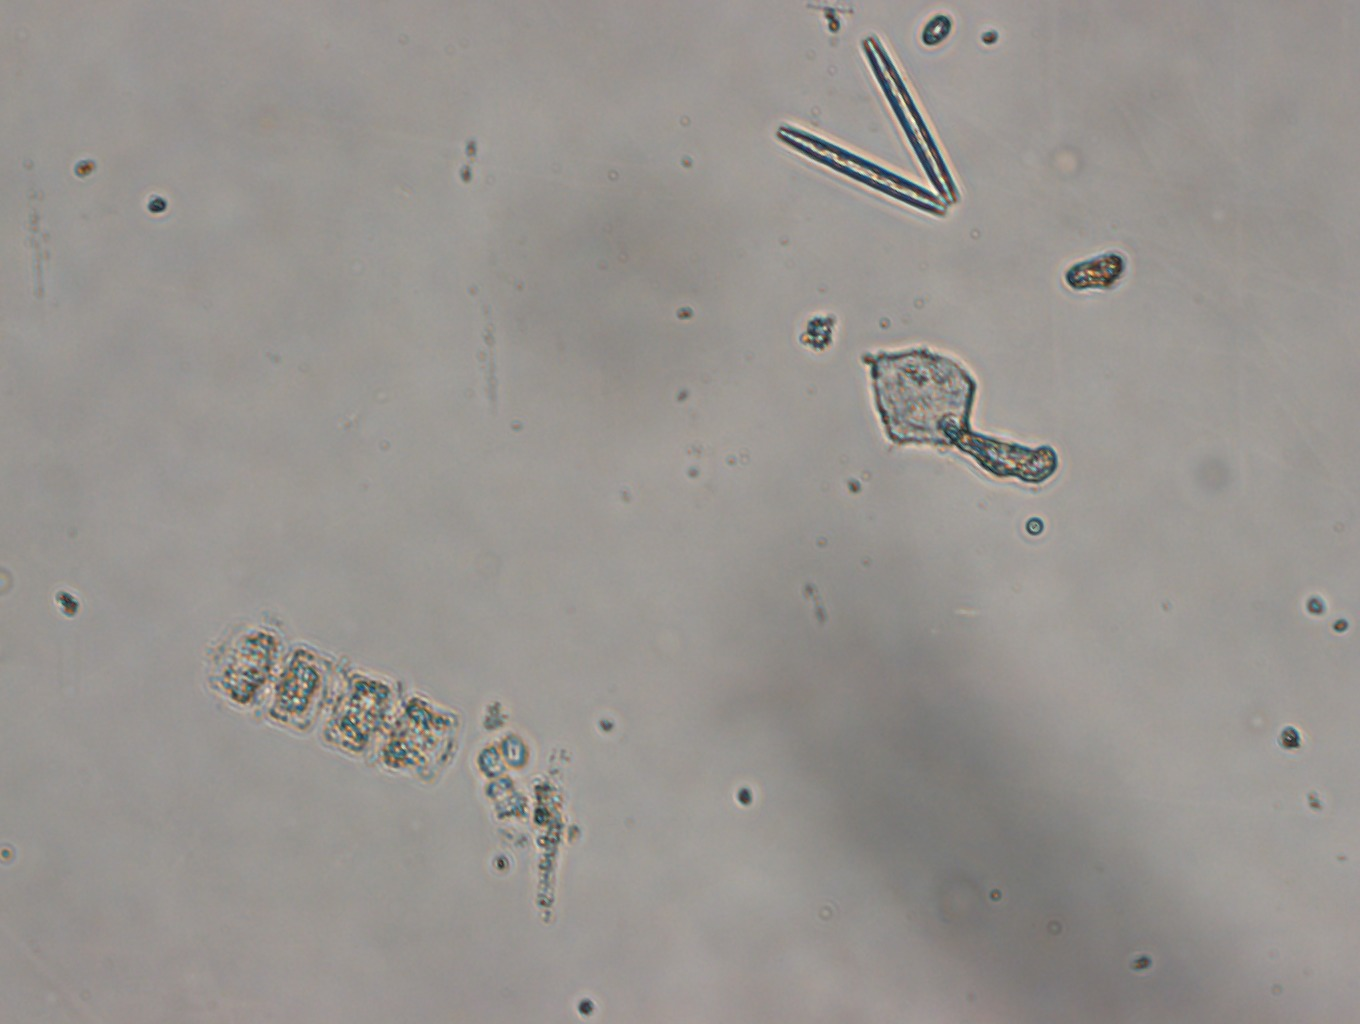detonula pumila: (202, 615, 479, 790)
thalassionema frauenfeldii: (774, 27, 967, 227)
